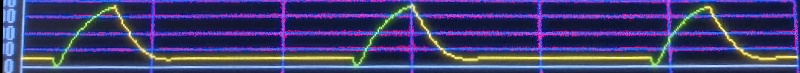leakage: (21, 0, 800, 73)
